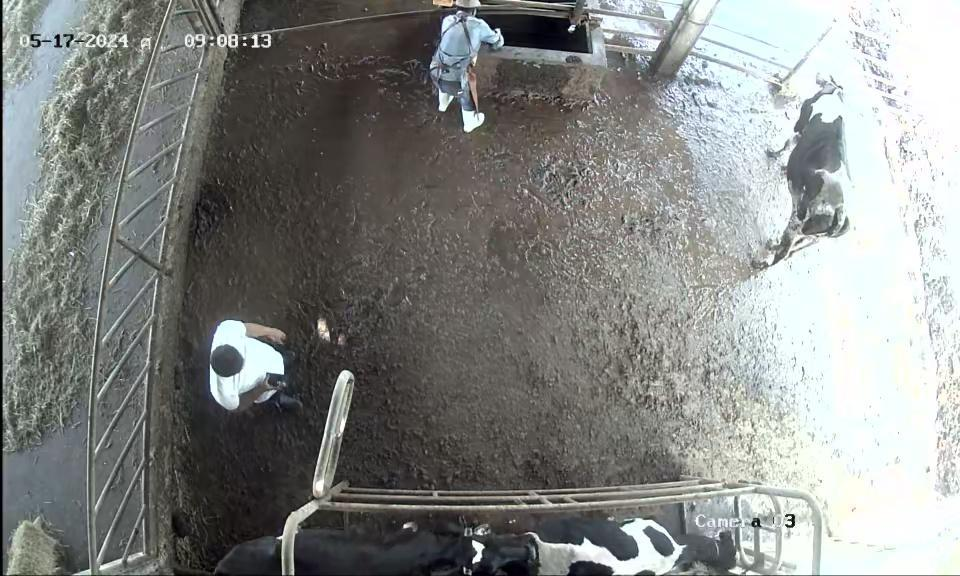stand: (751, 57, 864, 294), (210, 509, 536, 576), (478, 510, 748, 576)
